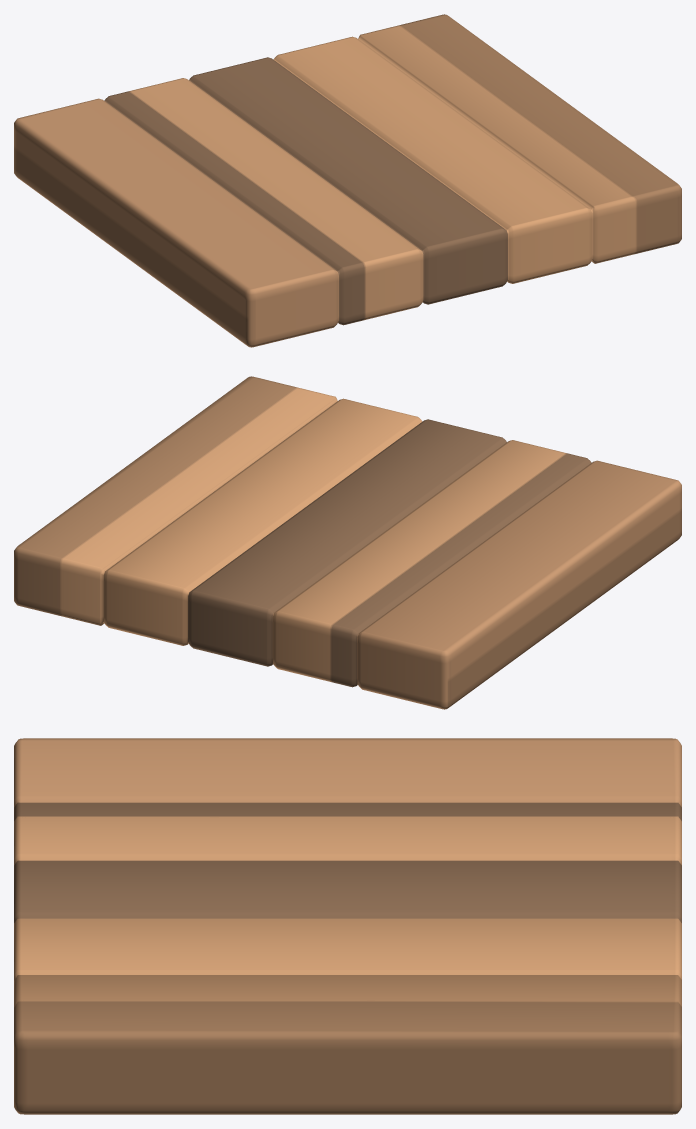
Rendered from HoopsBoxFloor3.fbx.
3 views of the same model, one above another, from view 1: azimuth 30°, elevation 25°; view 2: azimuth 150°, elevation 25°; view 3: azimuth 270°, elevation 25° (orthographic). The views are drawn at different scales.
Parts seen in each view (by area): view 1: ENV_S02_MovableBox_MO_1; view 2: ENV_S02_MovableBox_MO_1; view 3: ENV_S02_MovableBox_MO_1.
Boxes of the visible parts, x1=… form: ENV_S02_MovableBox_MO_1: x1=14, y1=14, x2=681, y2=347; ENV_S02_MovableBox_MO_1: x1=14, y1=376, x2=681, y2=709; ENV_S02_MovableBox_MO_1: x1=14, y1=738, x2=681, y2=1114.
Size of the model in its own units: 12.3 by 1.55 by 11.63.
